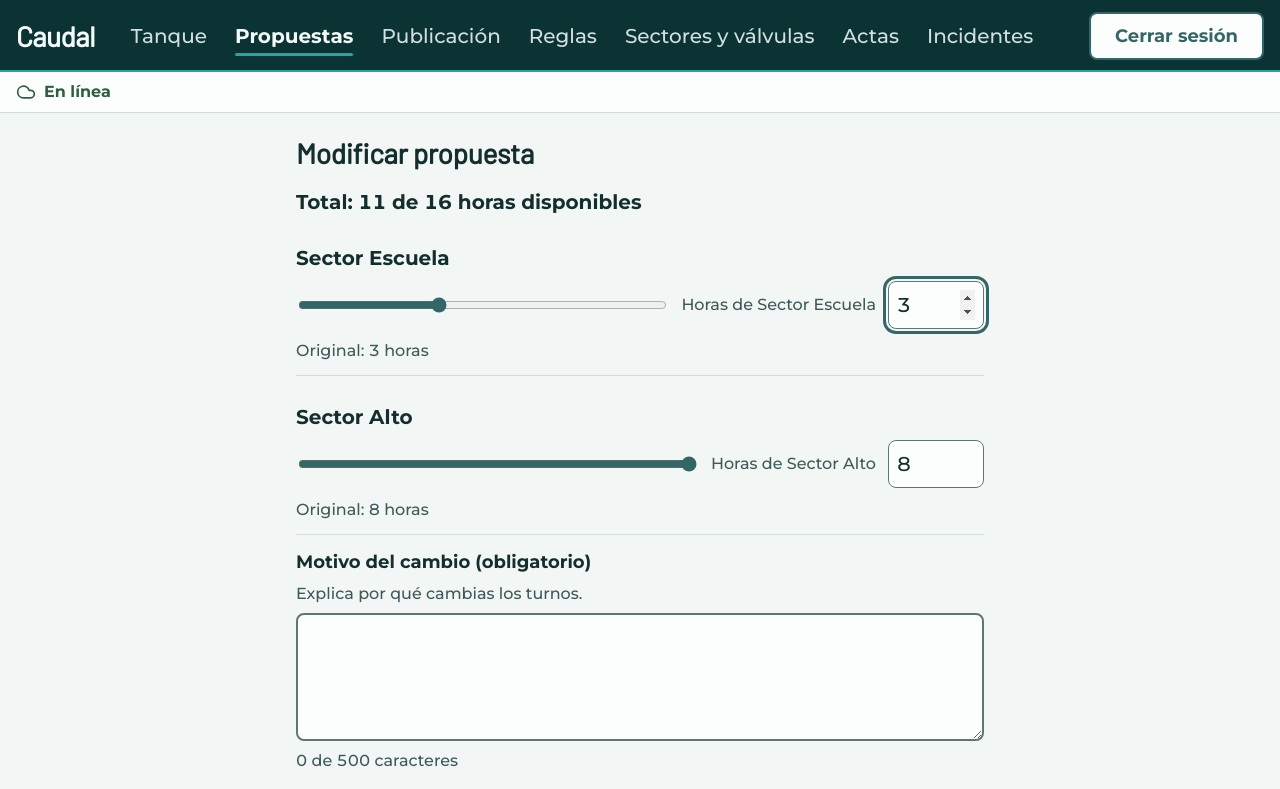
ProposalEditorPage accessibility (F058) › types hours with the keyboard into the numeric field
Clear the number field labelled "Horas de Sector Escuela" at (936, 305), box [888, 281, 984, 329]
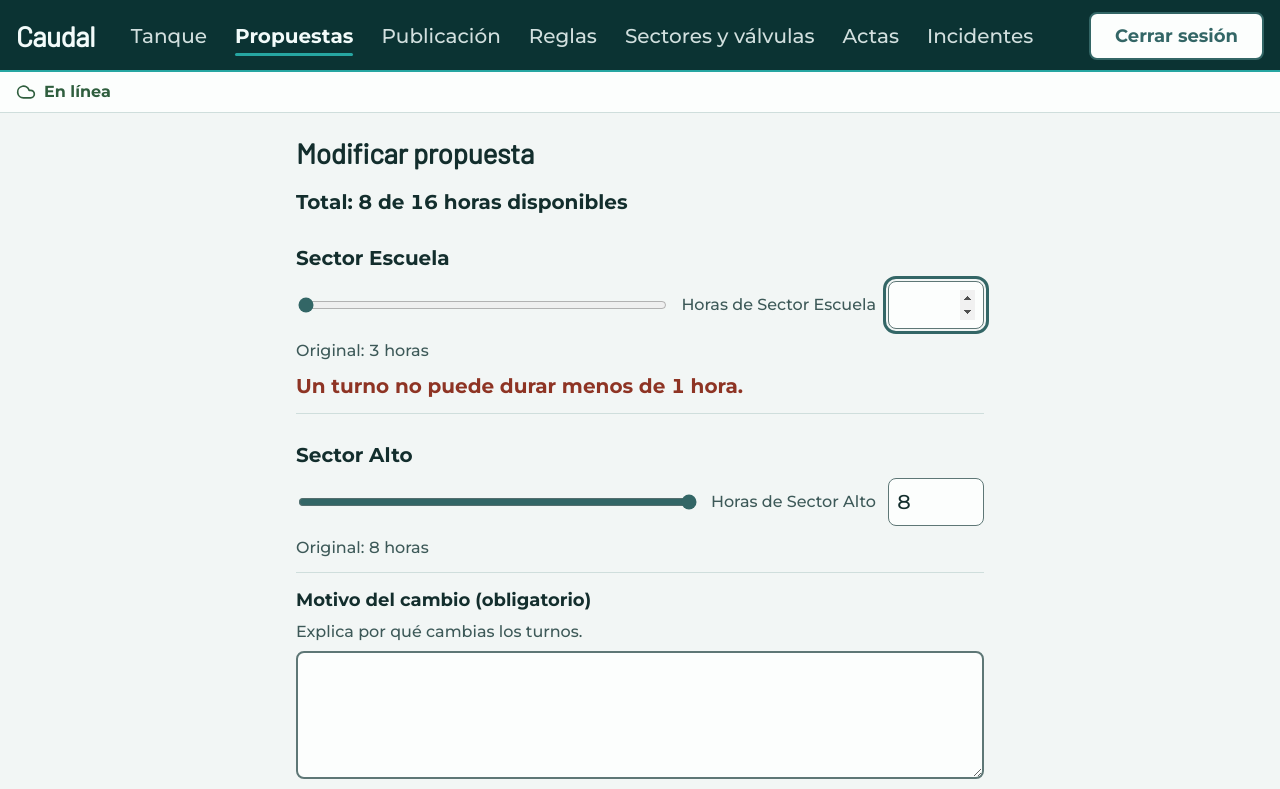
Type keys "2"
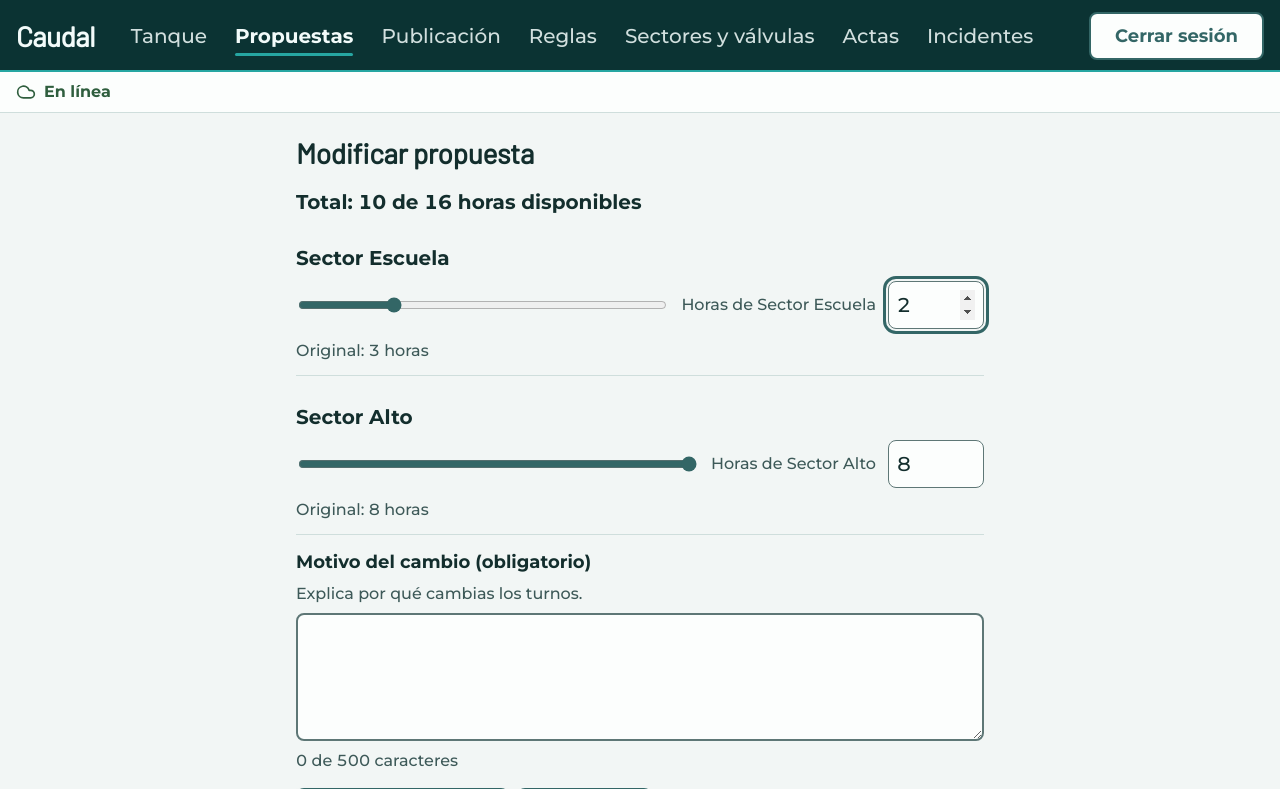
Expected: the text "Total: 10 de 16 horas disponibles" is shown, [296, 190, 642, 214]
